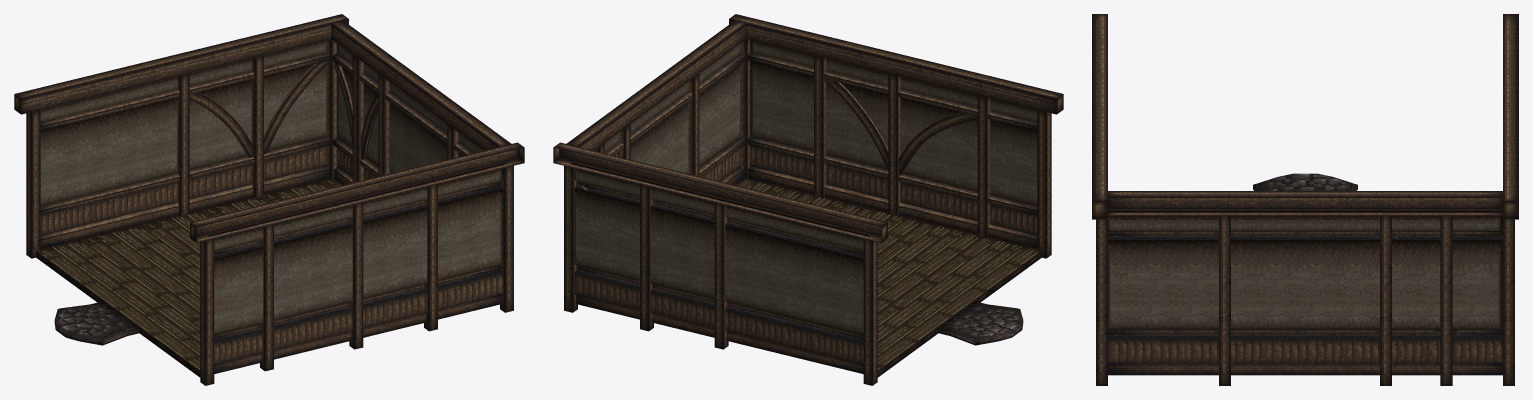
Rendered from EnvBdgMD_Mount_A_Indoor_Pub.FBX.
The picture shows the model from 3 angles, left to right: view 1: azimuth 30°, elevation 25°; view 2: azimuth 150°, elevation 25°; view 3: azimuth 270°, elevation 25°; orthographic projection. The views are drawn at different scales.
Parts seen in each view (by area): view 1: EnvBdgMD_Mount_A_Indoor_Pub; view 2: EnvBdgMD_Mount_A_Indoor_Pub; view 3: EnvBdgMD_Mount_A_Indoor_Pub.
Boxes of the visible parts, <box> form: EnvBdgMD_Mount_A_Indoor_Pub: <box>14,14,524,385</box>; EnvBdgMD_Mount_A_Indoor_Pub: <box>553,14,1063,385</box>; EnvBdgMD_Mount_A_Indoor_Pub: <box>1092,14,1518,385</box>.
Size of the model in its own units: 1250 by 520 by 1060.
1 material, 1 textured.
